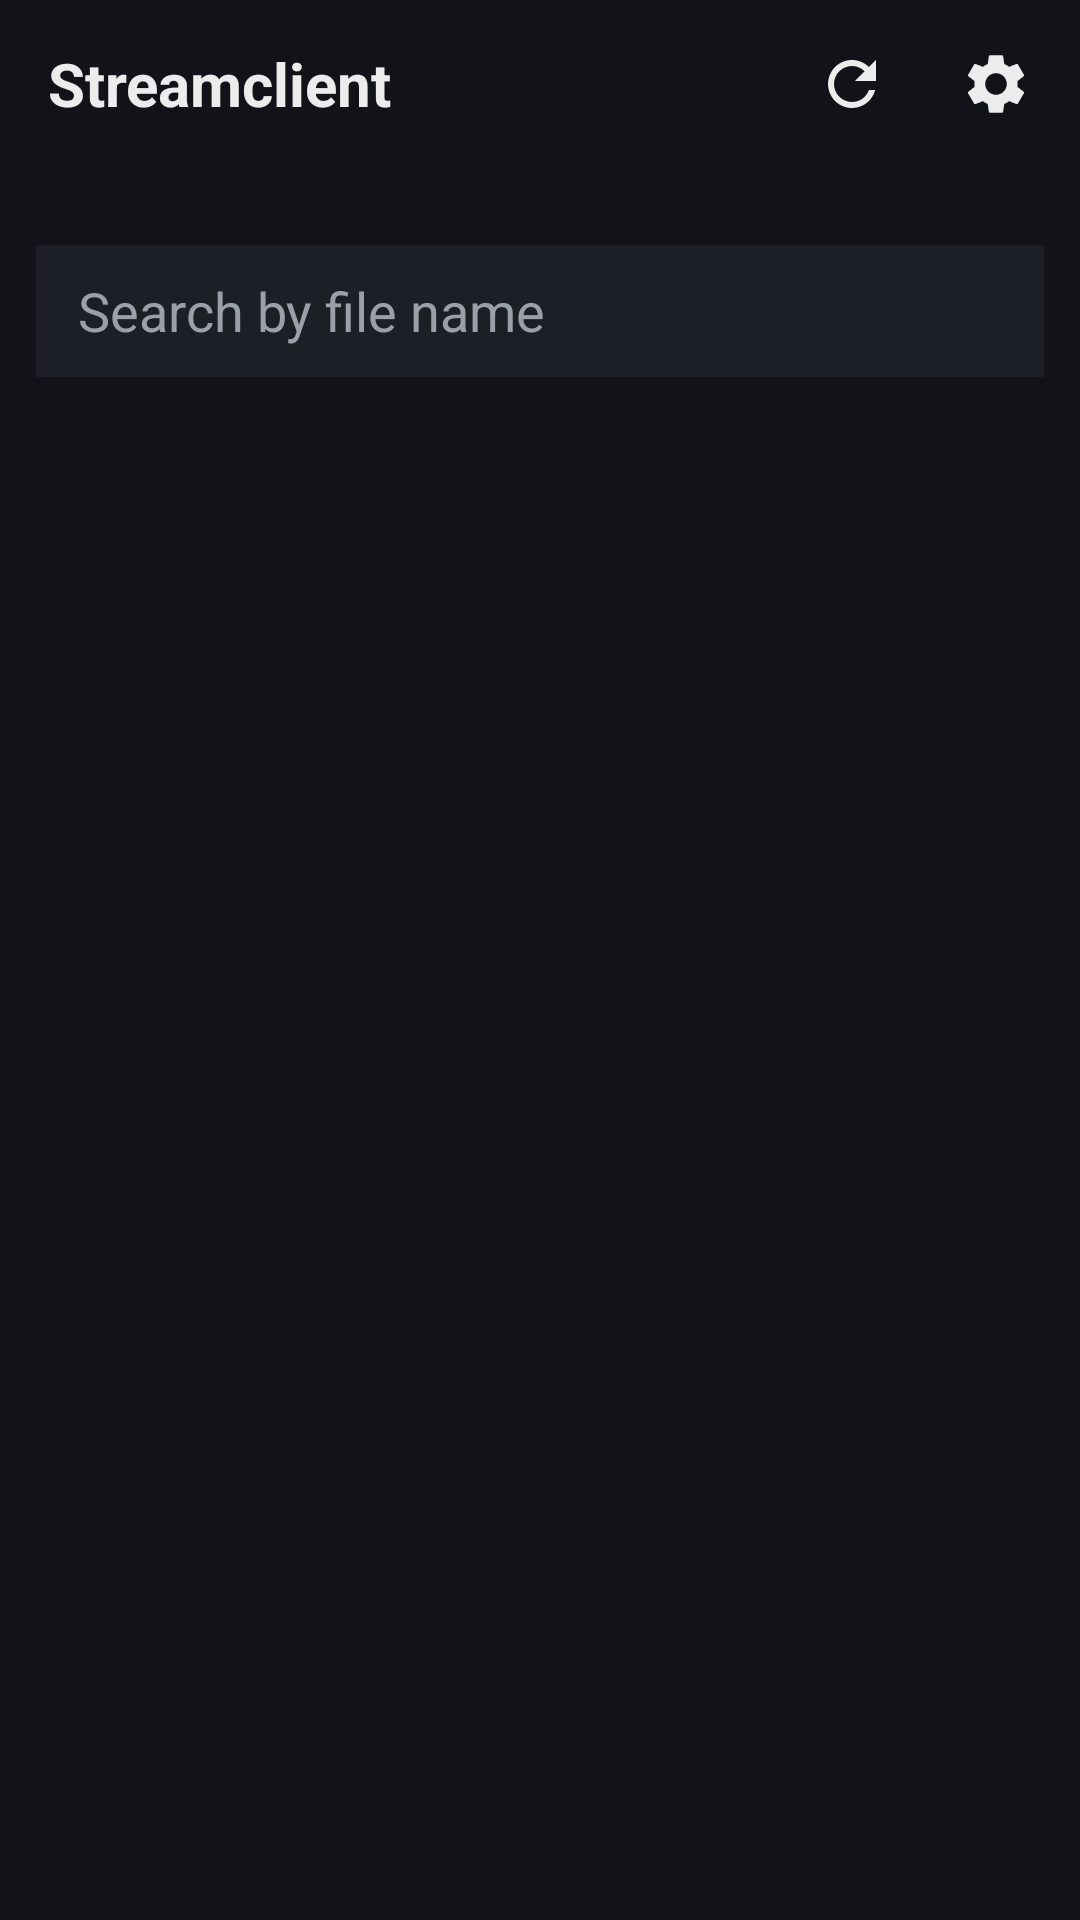

Named icons in this screenshot (1080 x 1920) and their centers, point (x, y):
Rescan library: point (852, 84)
Settings: point (996, 84)
